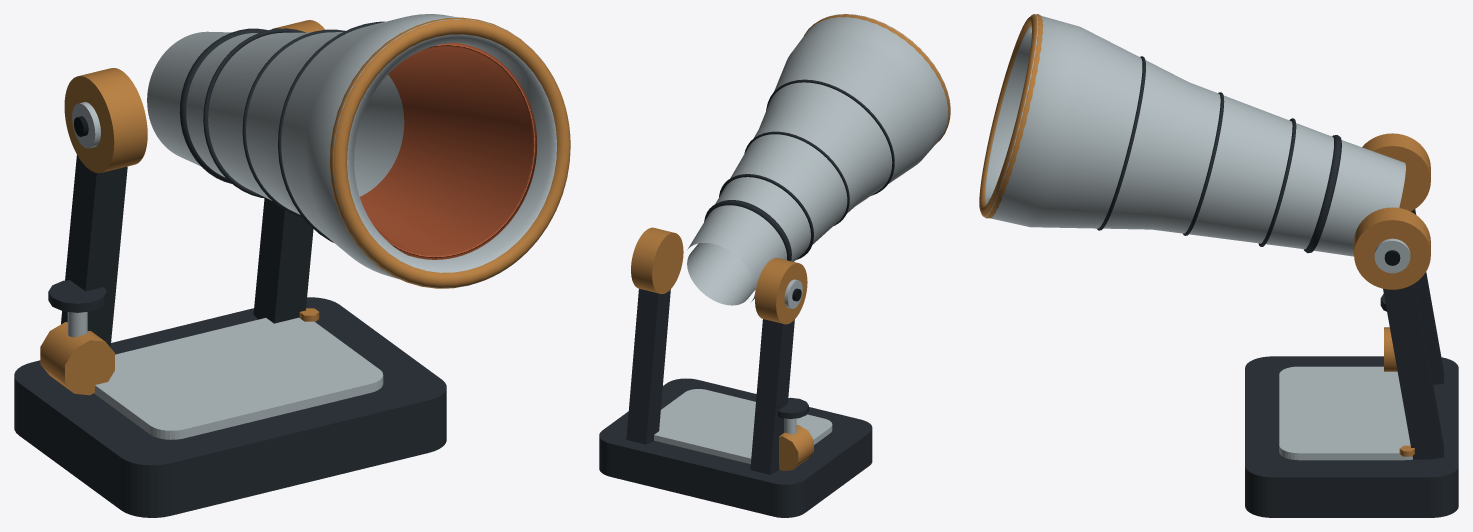
File: directional-vectorlance.glb
3 views of the same model, side by side, from view 1: azimuth 30°, elevation 25°; view 2: azimuth 150°, elevation 25°; view 3: azimuth 270°, elevation 25° (orthographic). The views are drawn at different scales.
Parts seen in each view (by area): view 1: Bell shell with open bore, Weighted swivel base, Removable refractory muzzle liner, Base top inset, Muzzle crown, Elevation yoke arm L, Yoke pivot bearing L, Elevation yoke arm R, Valve body, Cross-grip wheel, Rear neck collar, Cooling hoop 1 (+3 smaller); view 2: Bell shell with open bore, Weighted swivel base, Base top inset, Elevation yoke arm R, Elevation yoke arm L, Yoke pivot bearing R, Yoke pivot bearing L, Valve body, Muzzle crown, Rear neck collar, Cooling hoop 3, Cooling hoop 1 (+2 smaller); view 3: Bell shell with open bore, Weighted swivel base, Base top inset, Elevation yoke arm R, Yoke pivot bearing R, Muzzle crown, Yoke pivot bearing L, Elevation yoke arm L, Rear neck collar, Pivot lock cap R, Cooling hoop 3, Cooling hoop 2 (+1 smaller).
Boxes of the visible parts, x1,y1,x2,y2 form: Bell shell with open bore: (147, 14, 570, 288); Weighted swivel base: (14, 297, 446, 517); Removable refractory muzzle liner: (360, 42, 537, 259); Base top inset: (94, 317, 383, 439); Muzzle crown: (329, 17, 570, 288); Elevation yoke arm L: (61, 155, 127, 347); Yoke pivot bearing L: (64, 68, 147, 173); Elevation yoke arm R: (253, 198, 313, 323); Valve body: (40, 322, 114, 395); Cross-grip wheel: (48, 280, 106, 312); Rear neck collar: (179, 28, 267, 183); Cooling hoop 1: (203, 28, 305, 198); Bell shell with open bore: (687, 14, 950, 305); Weighted swivel base: (599, 378, 872, 517); Base top inset: (654, 389, 832, 464); Elevation yoke arm R: (626, 288, 670, 444); Elevation yoke arm L: (750, 319, 794, 474); Yoke pivot bearing R: (631, 227, 683, 293); Yoke pivot bearing L: (755, 258, 807, 324); Valve body: (779, 425, 813, 470); Muzzle crown: (804, 14, 950, 143); Rear neck collar: (704, 200, 791, 260); Cooling hoop 3: (766, 79, 894, 195); Cooling hoop 1: (719, 174, 813, 259); Bell shell with open bore: (984, 14, 1405, 256); Weighted swivel base: (1245, 356, 1458, 517); Base top inset: (1279, 366, 1412, 460); Elevation yoke arm R: (1383, 283, 1443, 459); Yoke pivot bearing R: (1354, 207, 1430, 289); Muzzle crown: (979, 14, 1043, 218); Yoke pivot bearing L: (1362, 133, 1430, 211); Elevation yoke arm L: (1411, 209, 1443, 384); Rear neck collar: (1304, 135, 1341, 253); Pivot lock cap R: (1374, 238, 1410, 273); Cooling hoop 3: (1097, 56, 1145, 230); Cooling hoop 2: (1183, 92, 1224, 235).
Size of the model in its own units: 0.67 by 1.12 by 1.12.
